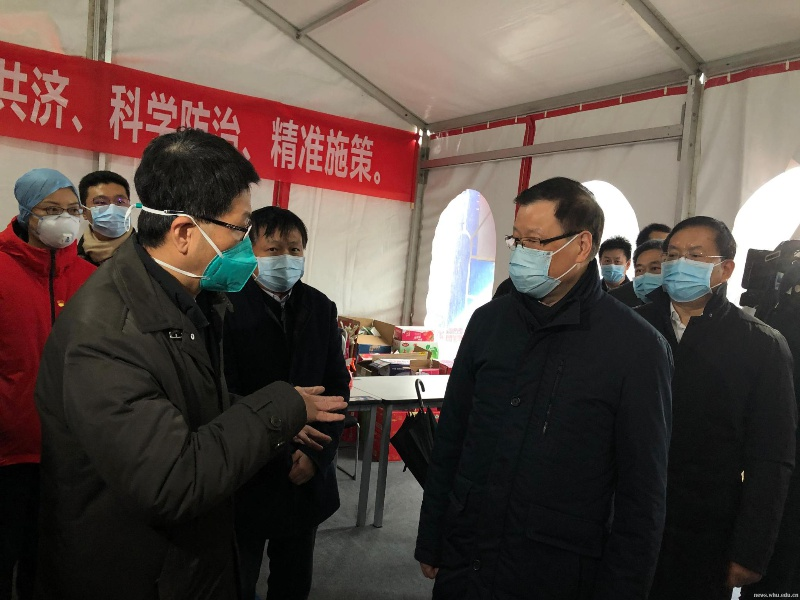ManaoArotava: (149, 139, 265, 305), (505, 183, 577, 310), (240, 199, 315, 305), (10, 154, 87, 251), (660, 212, 722, 310), (77, 166, 135, 245), (628, 235, 668, 302), (600, 228, 637, 299)
